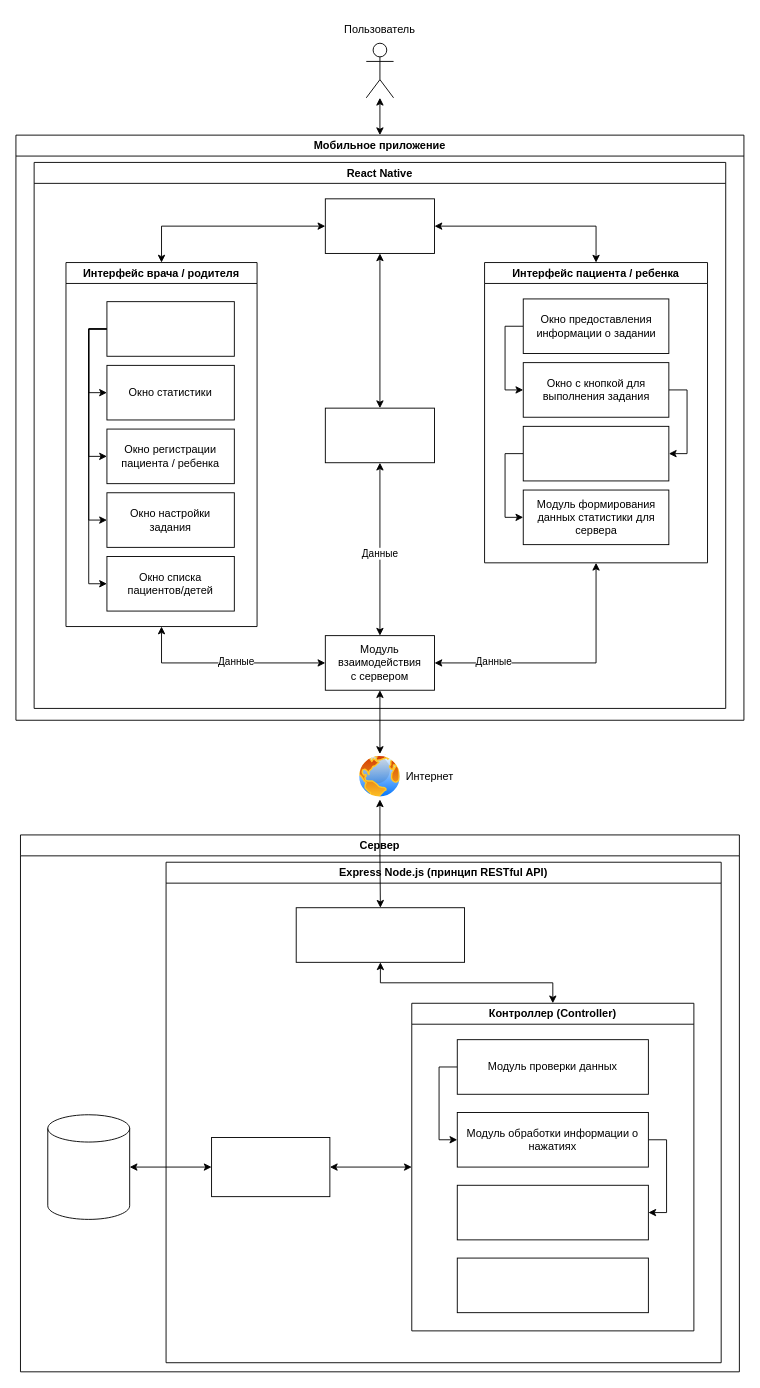
Some shapes in this 760 by 1388 pixel diagram are drawn without their labels. The shapes that lost their labels are listed below. From the top down, each one's centre as x and y in pixels, then its label:
[379,225]: Обработчик событий
[170,328]: Модуль управления пациентами
[379,435]: Модуль авторизации
[595,453]: Модуль сбора нажатий
[380,934]: Маршрутизатор (Router), взаимодействие с приложением
[88,1166]: База данных
[270,1167]: Модель (Model), взаимодействие с БД
[552,1212]: Модуль генерации файла статистики
[552,1285]: Модуль формирования задания
